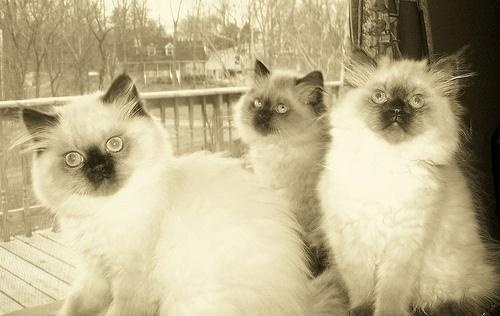cat: (21, 75, 309, 316), (314, 47, 500, 316), (234, 59, 333, 252)
